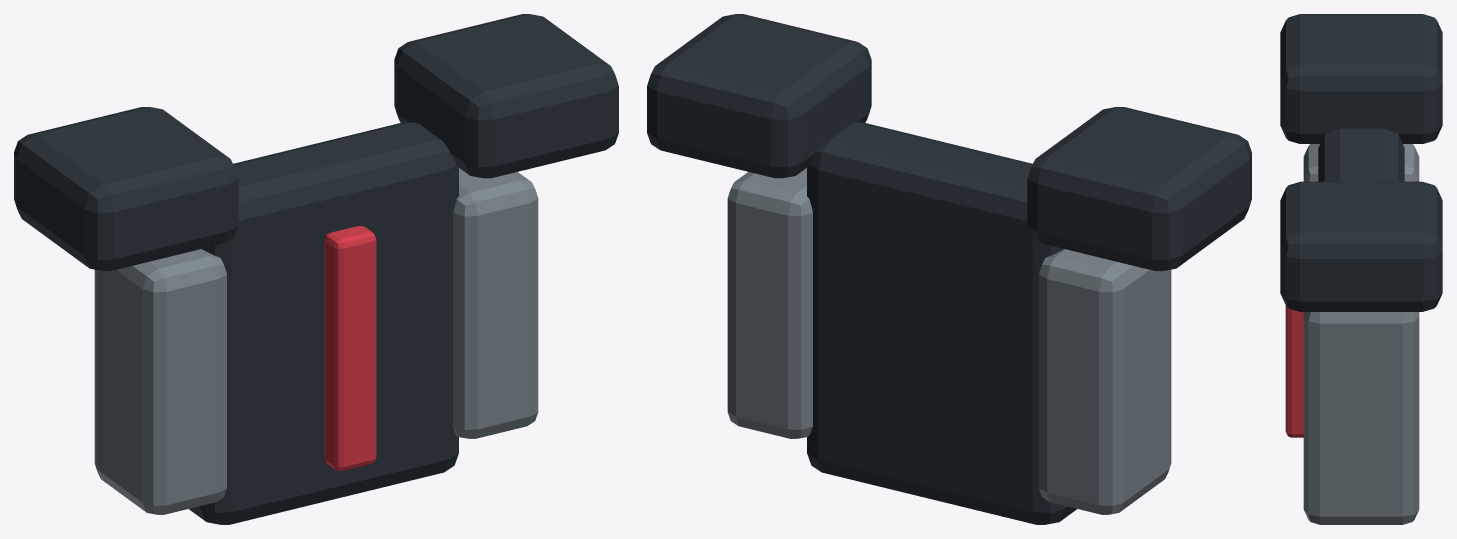
The model's file is TankArmorPack.fbx.
The picture shows the model from 3 angles, left to right: view 1: azimuth 30°, elevation 25°; view 2: azimuth 150°, elevation 25°; view 3: azimuth 270°, elevation 25°; orthographic projection. The views are drawn at different scales.
Visible parts, largest first — view 1: Tank Back Plate, Tank Left Cell, Tank Left Shoulder, Tank Right Shoulder, Tank Right Cell, Tank Spine Light; view 2: Tank Back Plate, Tank Left Cell, Tank Left Shoulder, Tank Right Shoulder, Tank Right Cell; view 3: Tank Right Cell, Tank Right Shoulder, Tank Left Shoulder, Tank Back Plate, Tank Spine Light, Tank Left Cell.
Part boxes in pixels (x1,y1,x2,y2): Tank Back Plate: (189, 122, 458, 524); Tank Left Cell: (94, 249, 226, 514); Tank Left Shoulder: (14, 107, 238, 271); Tank Right Shoulder: (394, 14, 618, 178); Tank Right Cell: (453, 168, 538, 438); Tank Spine Light: (324, 226, 376, 470); Tank Back Plate: (807, 122, 1076, 524); Tank Left Cell: (1039, 249, 1171, 514); Tank Left Shoulder: (1027, 107, 1251, 271); Tank Right Shoulder: (647, 14, 871, 178); Tank Right Cell: (727, 168, 812, 438); Tank Right Cell: (1303, 312, 1419, 524); Tank Right Shoulder: (1280, 181, 1442, 311); Tank Left Shoulder: (1280, 14, 1442, 143); Tank Back Plate: (1318, 128, 1404, 181); Tank Spine Light: (1285, 305, 1303, 437); Tank Left Cell: (1303, 144, 1419, 181).
Bounding box in the file's own units: 1.54 × 1.08 × 0.45.
